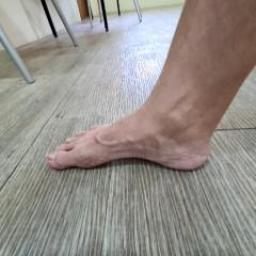Medial View -Right Foot-: (31, 77, 237, 192)
